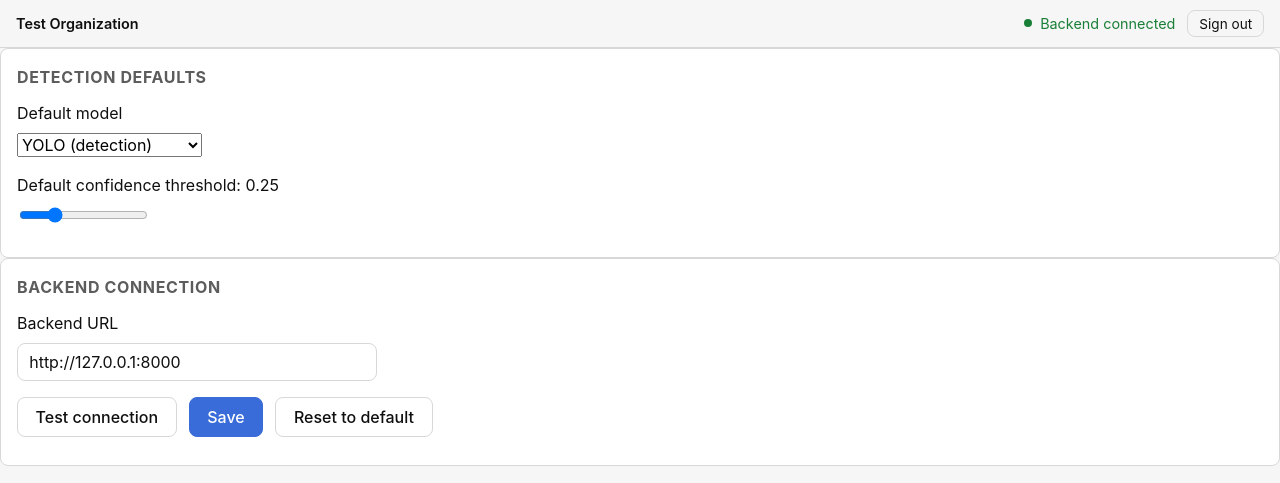
Test: SettingsPage › Save immediately rechecks connectivity instead of waiting for the next poll
Expected: the text "Backend connected" is shown, [1024, 13, 1175, 34]
Type "http://127.0.0.1:9999" into the field labelled "Backend URL" at [197, 362], box [17, 343, 377, 381]
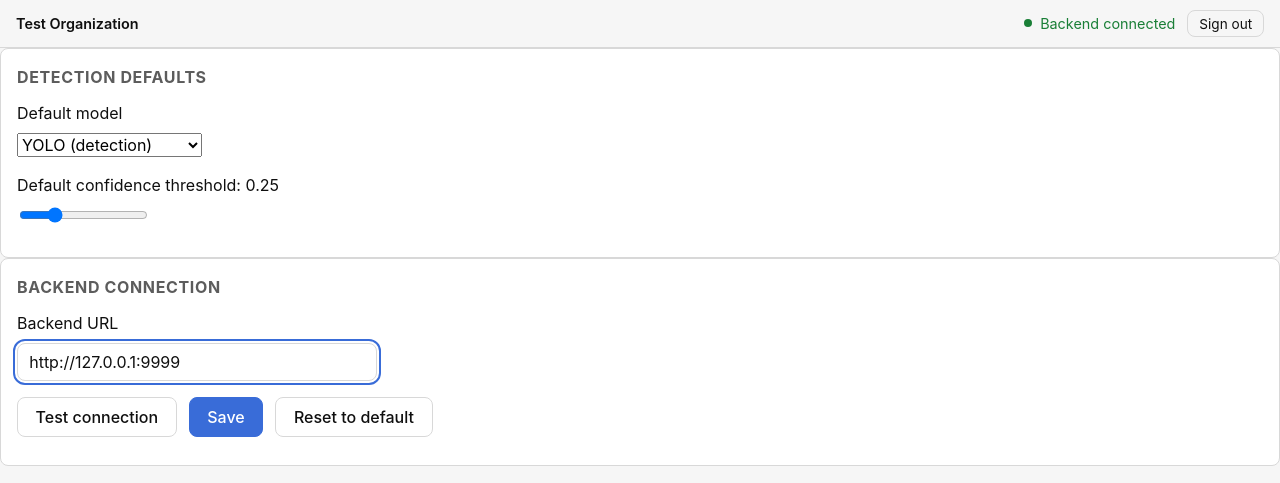
Click the button "Save" at [226, 417], box [189, 397, 263, 437]
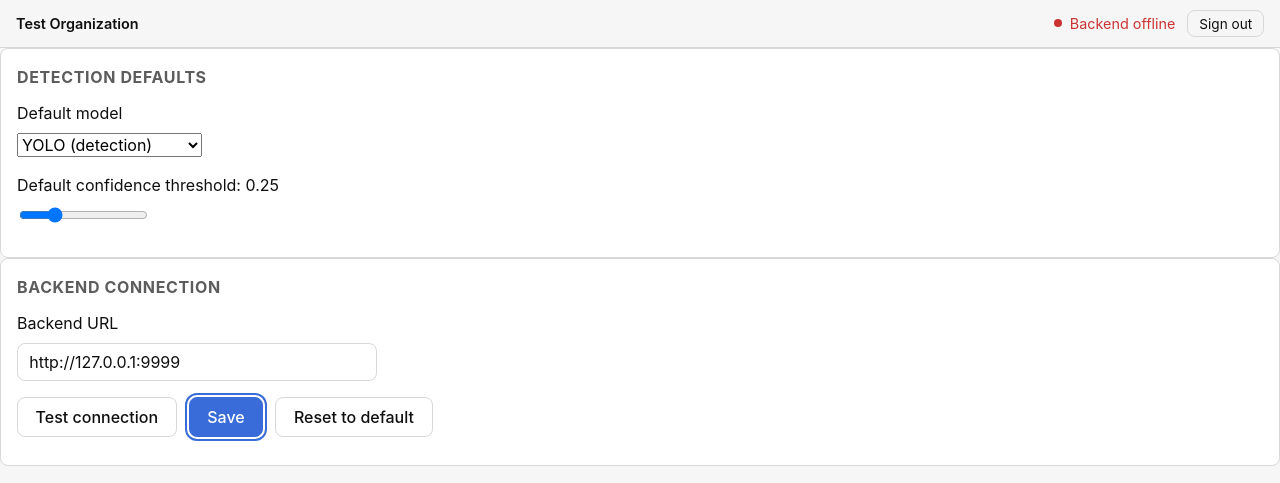
Result: the text "Backend offline" is shown at [1054, 13, 1175, 34]
